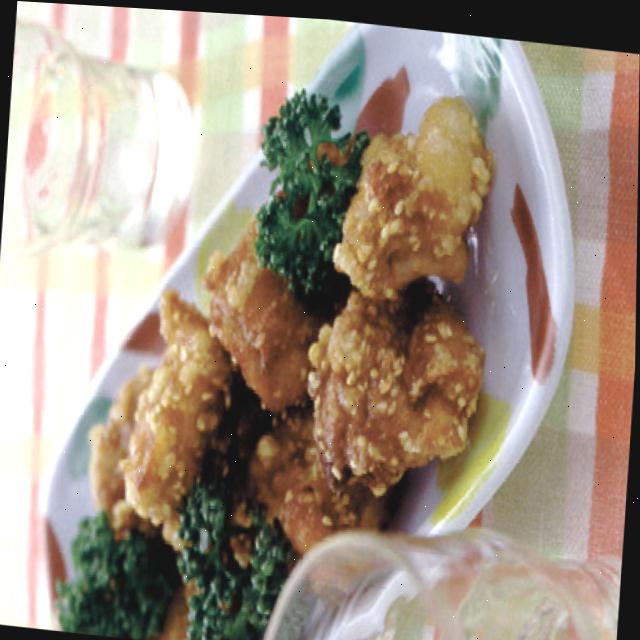鸡肉料理 含炸鸡: (16, 1, 548, 640)
